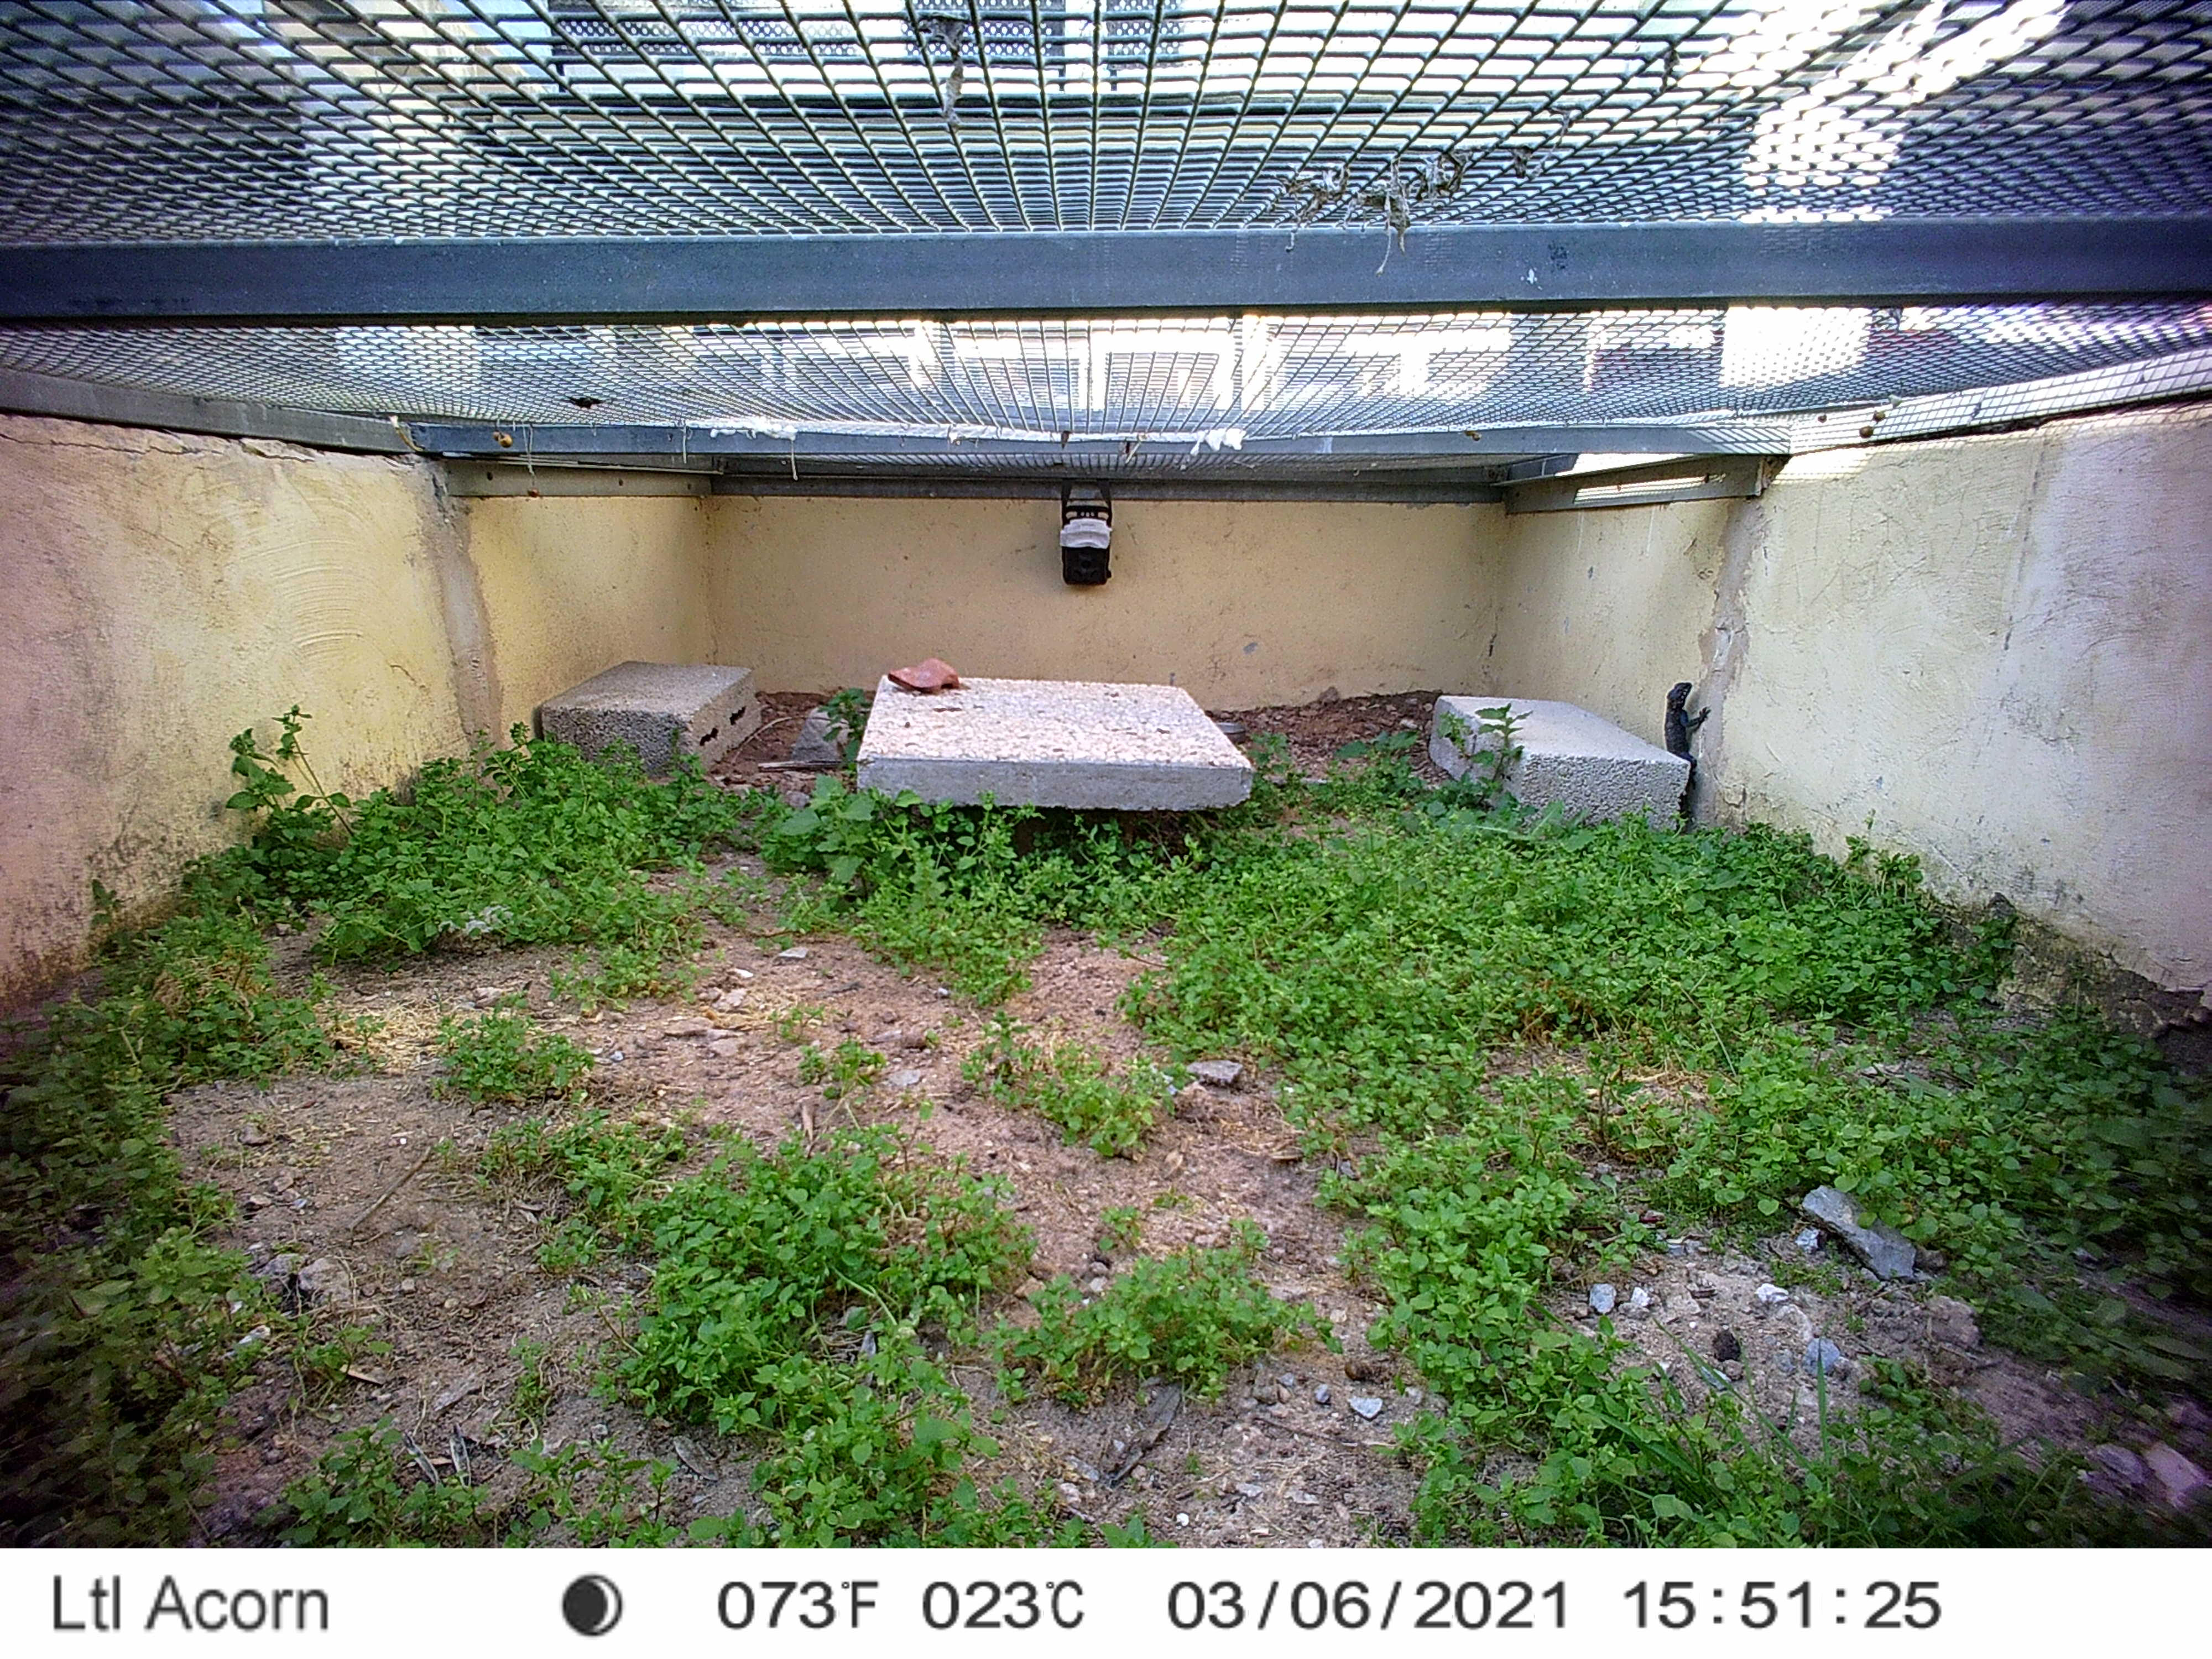lizard: (1653, 680, 1709, 772)
